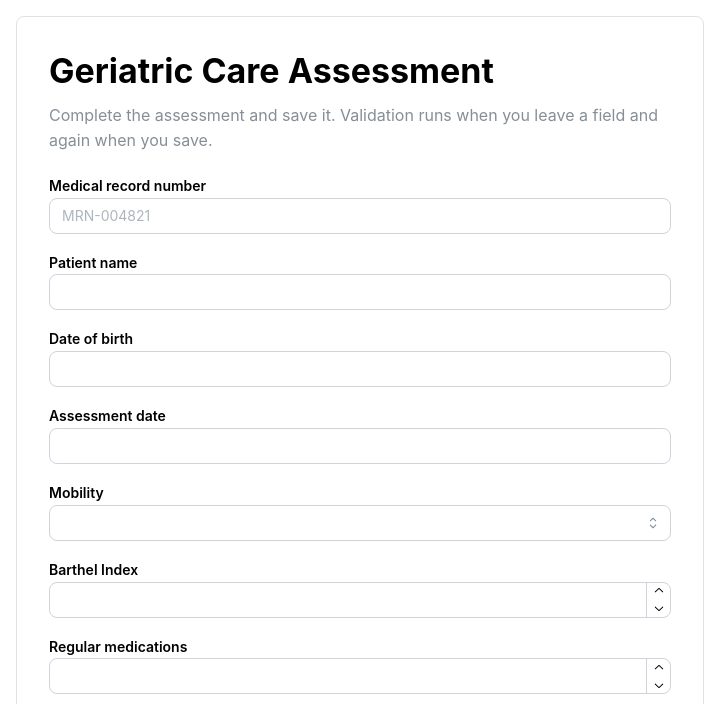
Scenario: AssessmentForm › renders every assessment field without showing errors
Check: the heading "Geriatric Care Assessment" is shown, box [49,50,494,91]
Check: the field labelled "Patient name" is shown, box [49,274,671,310]
Click the dropdown labelled "Mobility": (360, 523) [49,505,671,541]
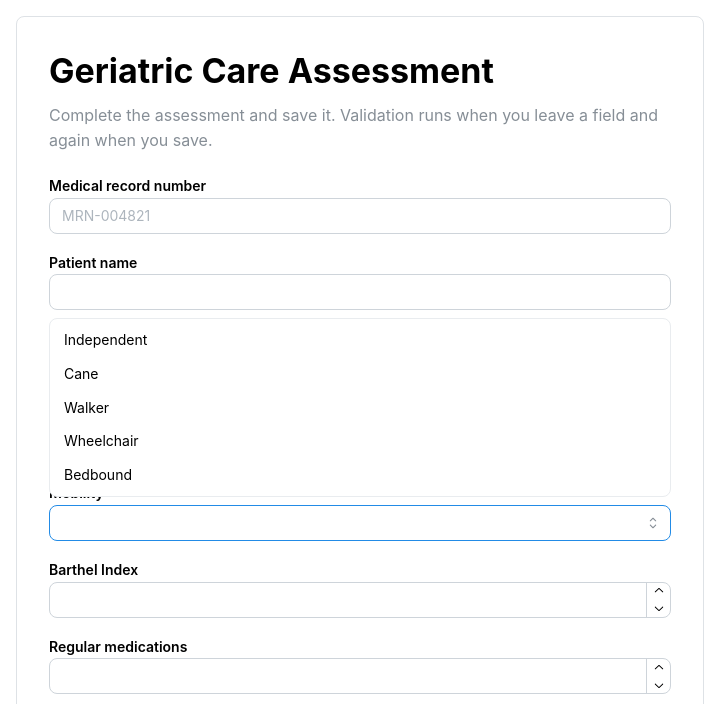
Check: the option "Independent" is shown, box [64,331,147,348]
Check: the option "Cane" is shown, box [64,365,98,382]
Check: the option "Walker" is shown, box [64,399,109,416]
